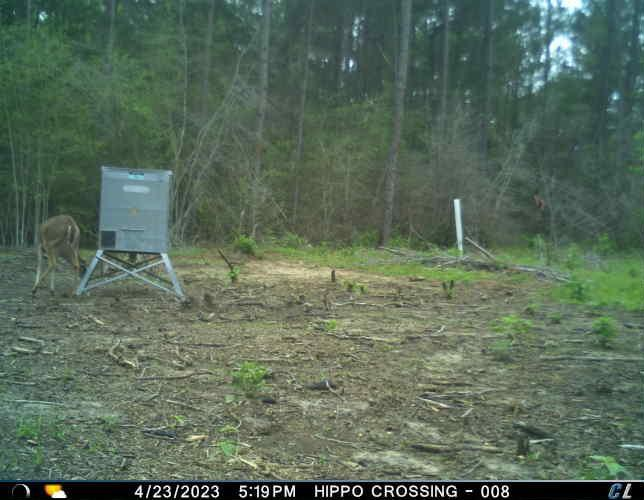Deer: (31, 212, 84, 302)
